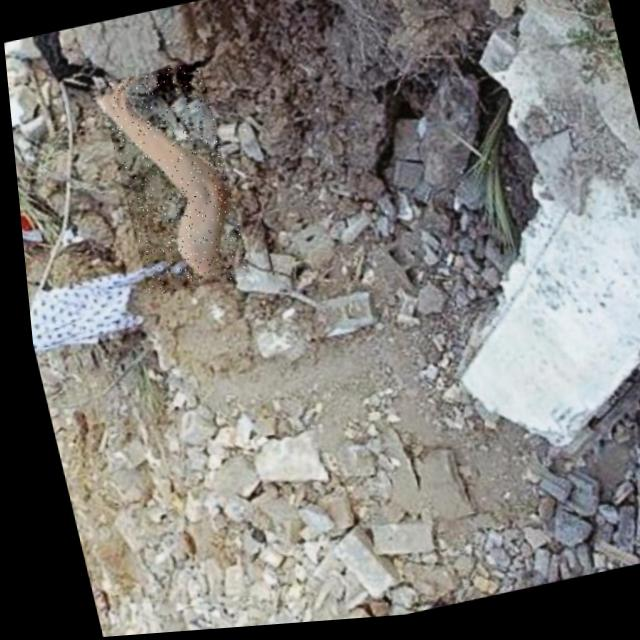Person in Rubble: (96, 62, 246, 299)
